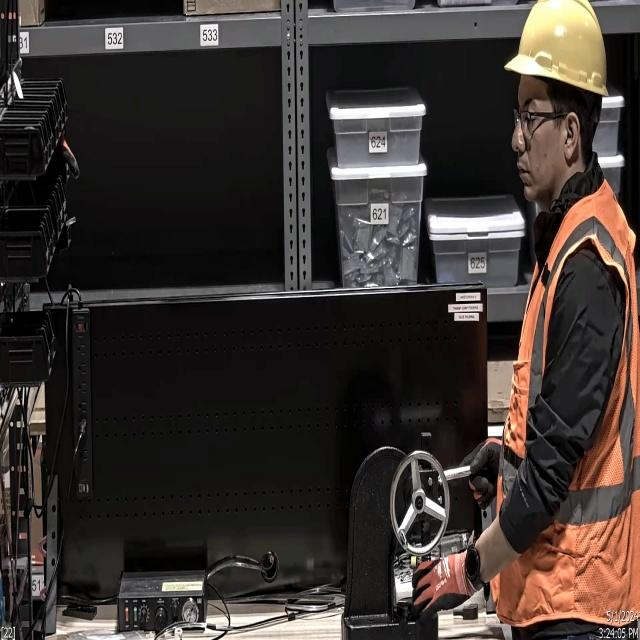gloves: (408, 540, 469, 626), (462, 436, 502, 509)
